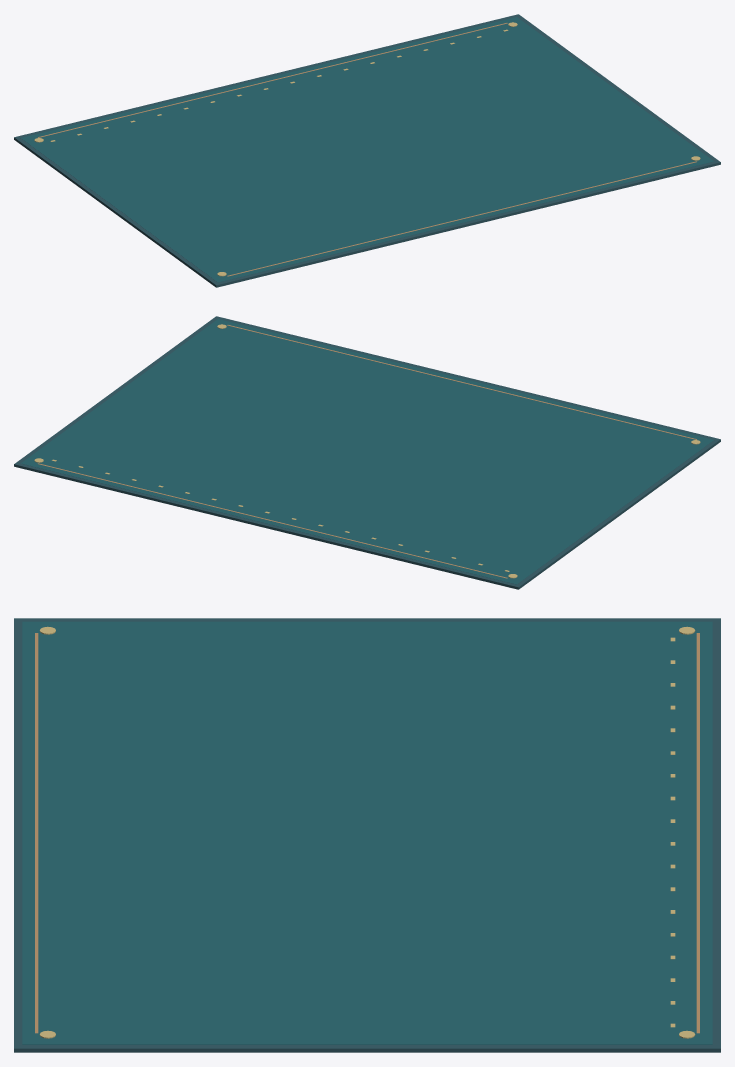
The model's file is 153_L112_PCB_Main.glb.
The picture shows the model from 3 angles, top to bottom: view 1: azimuth 30°, elevation 25°; view 2: azimuth 150°, elevation 25°; view 3: azimuth 270°, elevation 25°; orthographic projection. The views are drawn at different scales.
Visible parts, largest first — view 1: part001__PSMAT__Soldermask_Midnight, part000__PSMAT__PCB_Graphite, part003__PSMAT__Copper_Exposed, part002__PSMAT__Copper_Exposed; view 2: part001__PSMAT__Soldermask_Midnight, part000__PSMAT__PCB_Graphite, part002__PSMAT__Copper_Exposed, part003__PSMAT__Copper_Exposed; view 3: part001__PSMAT__Soldermask_Midnight, part000__PSMAT__PCB_Graphite, part002__PSMAT__Copper_Exposed, part003__PSMAT__Copper_Exposed.
Boxes of the visible parts, x1=… form: part001__PSMAT__Soldermask_Midnight: x1=21, y1=17, x2=713, y2=282; part000__PSMAT__PCB_Graphite: x1=14, y1=14, x2=720, y2=287; part003__PSMAT__Copper_Exposed: x1=227, y1=161, x2=696, y2=276; part002__PSMAT__Copper_Exposed: x1=38, y1=23, x2=507, y2=137; part001__PSMAT__Soldermask_Midnight: x1=21, y1=319, x2=713, y2=584; part000__PSMAT__PCB_Graphite: x1=14, y1=316, x2=720, y2=589; part002__PSMAT__Copper_Exposed: x1=38, y1=463, x2=507, y2=578; part003__PSMAT__Copper_Exposed: x1=227, y1=325, x2=696, y2=439; part001__PSMAT__Soldermask_Midnight: x1=22, y1=621, x2=712, y2=1044; part000__PSMAT__PCB_Graphite: x1=14, y1=618, x2=720, y2=1052; part002__PSMAT__Copper_Exposed: x1=696, y1=633, x2=699, y2=1033; part003__PSMAT__Copper_Exposed: x1=35, y1=633, x2=38, y2=1033.
Bounding box in the file's own units: 0.36 × 0.0021 × 0.25.
